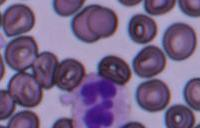N: (69, 72, 130, 128)
